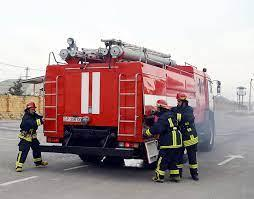Fire-engine: (32, 46, 208, 160)
